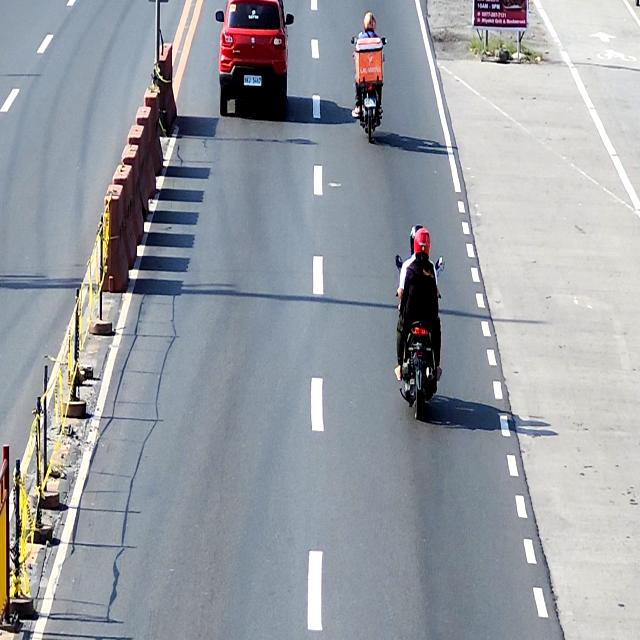Car: (214, 0, 294, 117)
License-Plate: (244, 75, 262, 86), (364, 97, 376, 107)
Motorcycle: (395, 253, 443, 421), (352, 35, 387, 145)
